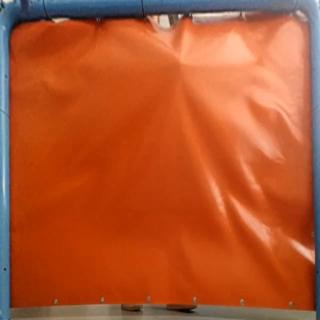Hit-hRxx: (171, 59, 187, 69)
